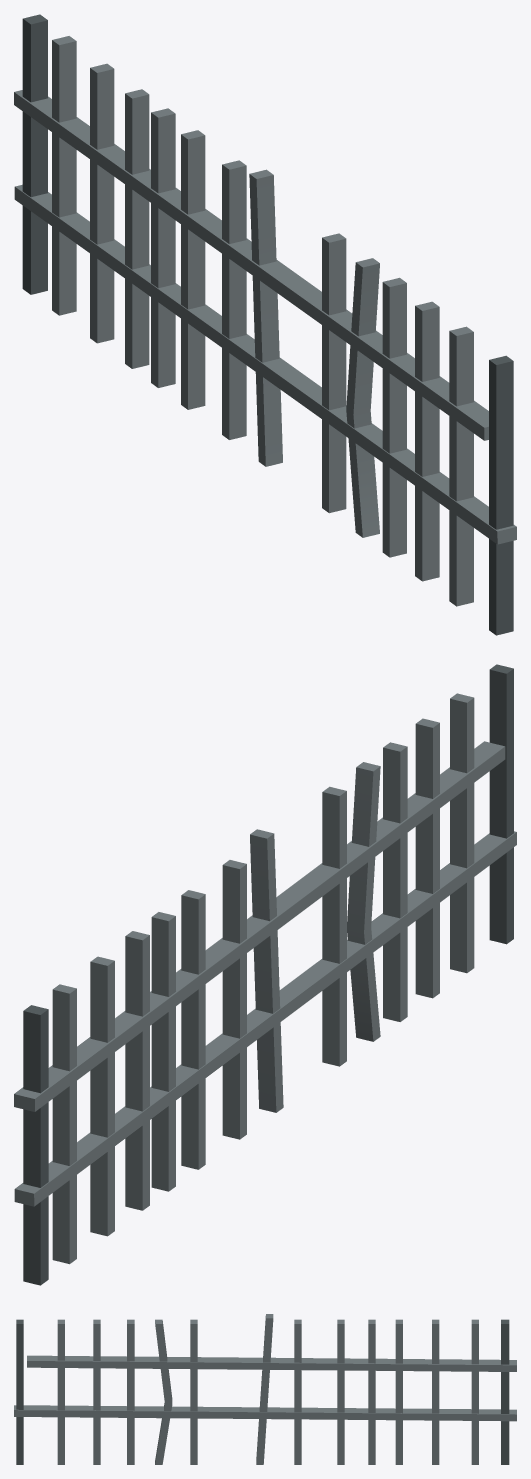
The model's file is Jail_Cell_Long_Type1.fbx.
3 views of the same model, one above another, from view 1: azimuth 30°, elevation 25°; view 2: azimuth 150°, elevation 25°; view 3: azimuth 270°, elevation 25° (orthographic). The views are drawn at different scales.
Parts seen in each view (by area): view 1: Jail_Cell_Long_Type1; view 2: Jail_Cell_Long_Type1; view 3: Jail_Cell_Long_Type1.
Boxes of the visible parts, bbox=[...] form: Jail_Cell_Long_Type1: bbox=[14, 14, 516, 635]; Jail_Cell_Long_Type1: bbox=[14, 664, 516, 1285]; Jail_Cell_Long_Type1: bbox=[14, 1314, 516, 1464].
Size of the model in its own units: 0.3674 by 4.73 by 14.72.
